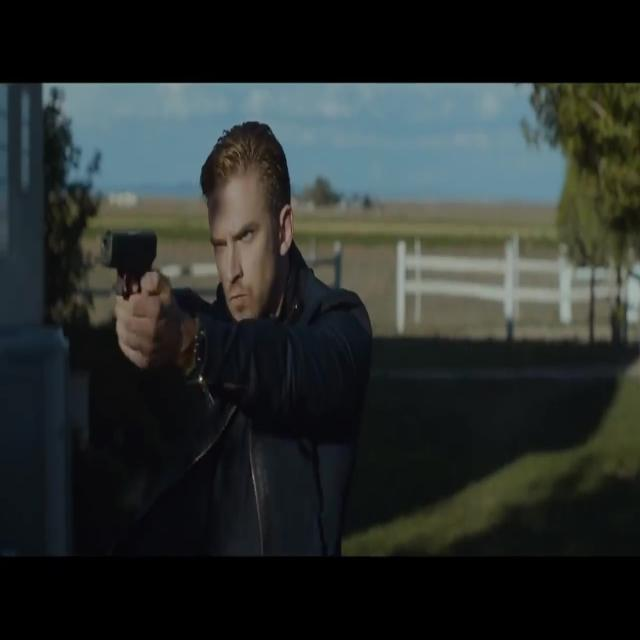Weapon: (83, 219, 185, 299)
